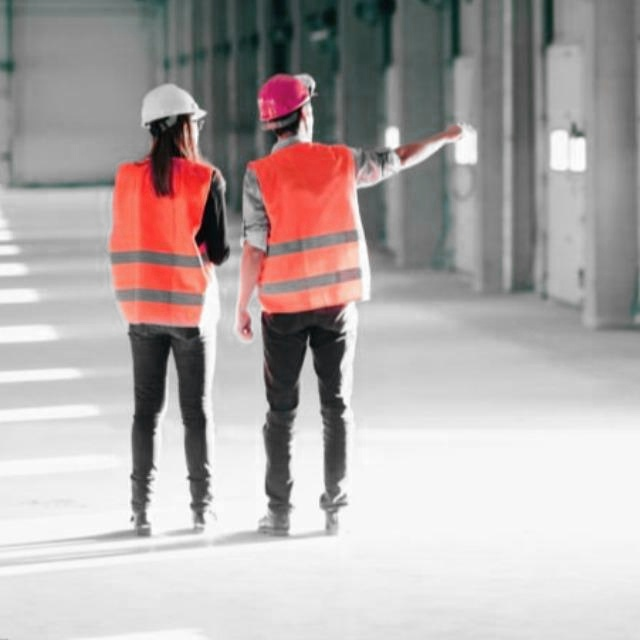Con_Chaleco: (245, 140, 372, 317), (110, 154, 223, 331)
